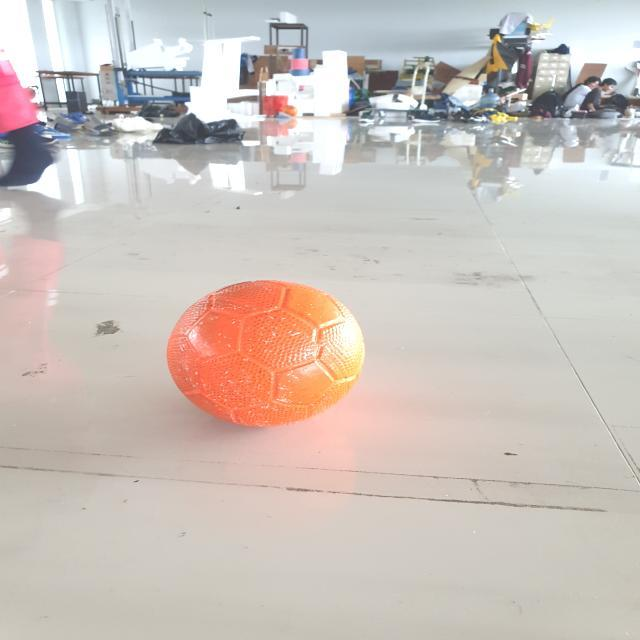bola: (164, 274, 368, 440)
